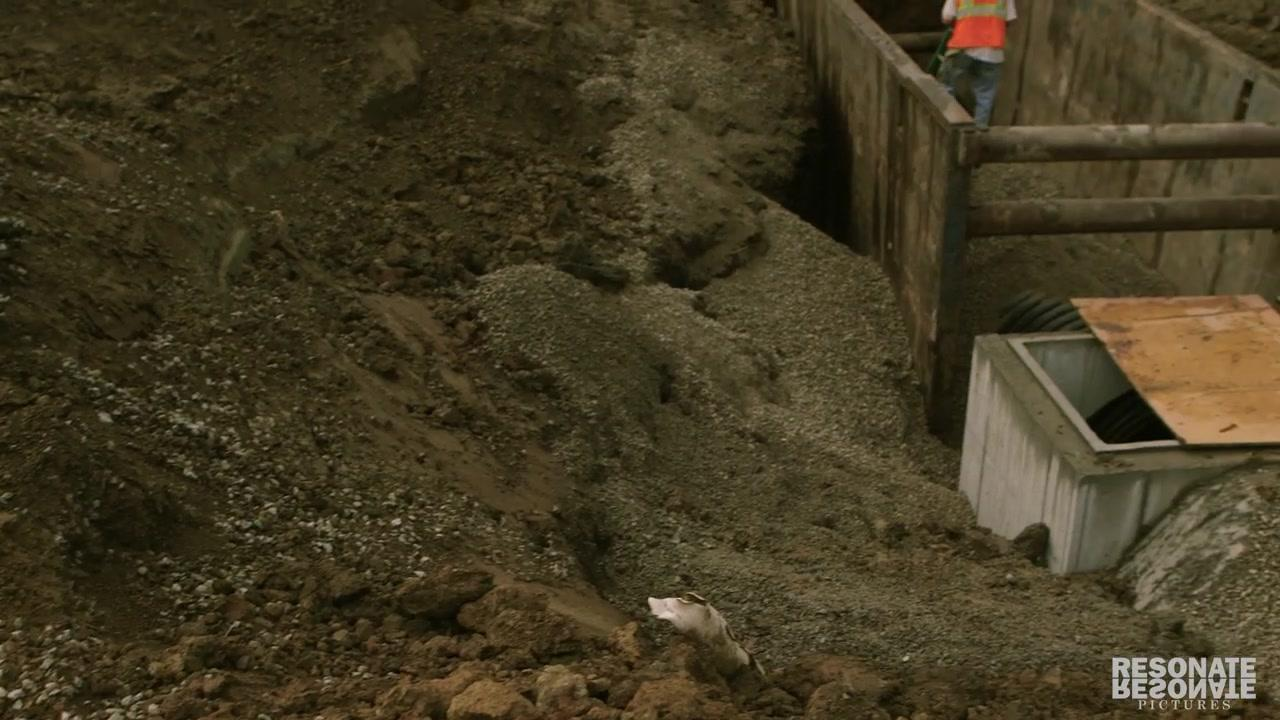vest: (948, 0, 1015, 53)
